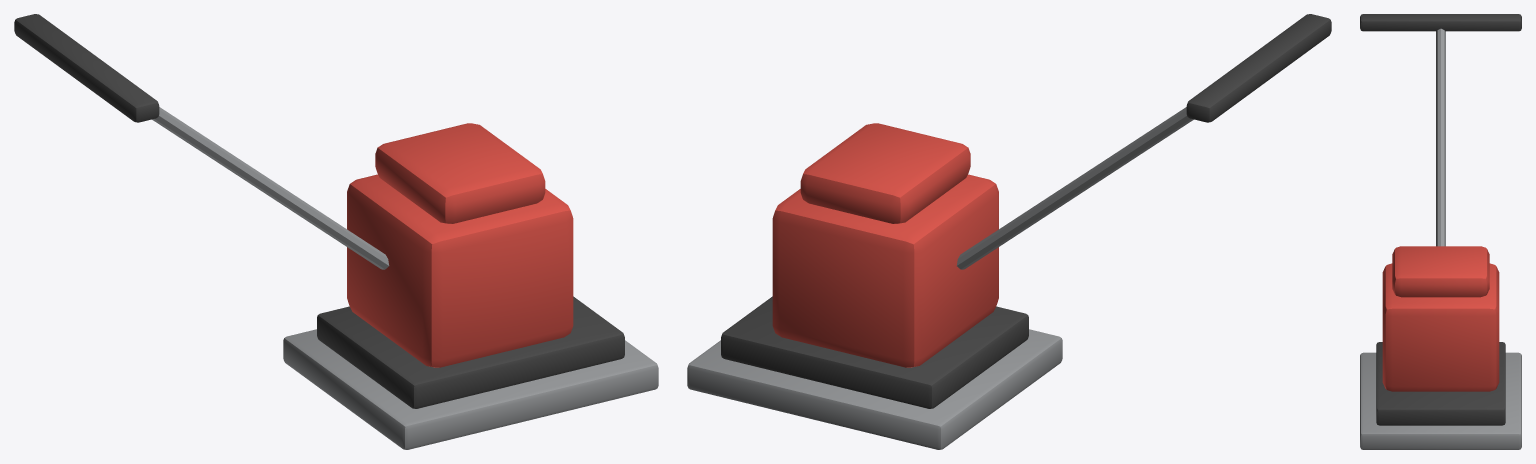
Rendered from EQP-CMP-005_anim.glb.
3 renders of one model, left to right at view 1: azimuth 30°, elevation 25°; view 2: azimuth 150°, elevation 25°; view 3: azimuth 270°, elevation 25°, orthographic. The views are drawn at different scales.
Parts seen in each view (by area): view 1: EQP-CMP-005_anim1, EQP-CMP-005_anim0; view 2: EQP-CMP-005_anim1, EQP-CMP-005_anim0; view 3: EQP-CMP-005_anim1, EQP-CMP-005_anim0.
Boxes of the visible parts, <box> form: EQP-CMP-005_anim1: <box>14,14,573,367</box>; EQP-CMP-005_anim0: <box>283,296,658,449</box>; EQP-CMP-005_anim1: <box>772,14,1331,367</box>; EQP-CMP-005_anim0: <box>687,296,1062,449</box>; EQP-CMP-005_anim1: <box>1360,14,1521,391</box>; EQP-CMP-005_anim0: <box>1360,342,1521,449</box>.
Bounding box in the file's own units: 1.23 × 0.92 × 0.5.
